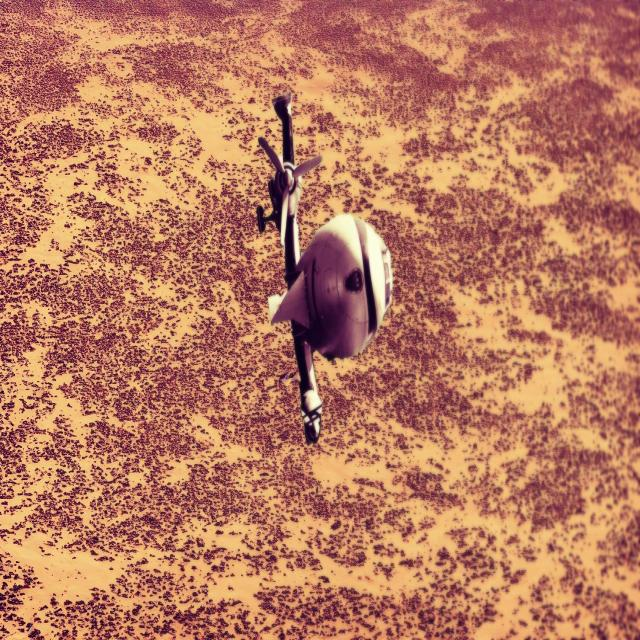airplane: (255, 92, 393, 444)
